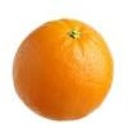orange: (10, 20, 118, 122)
